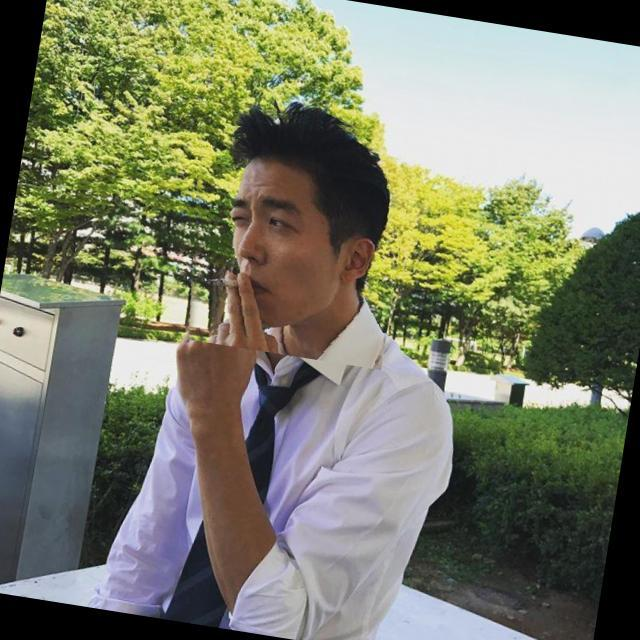cigarette: (167, 254, 240, 296)
